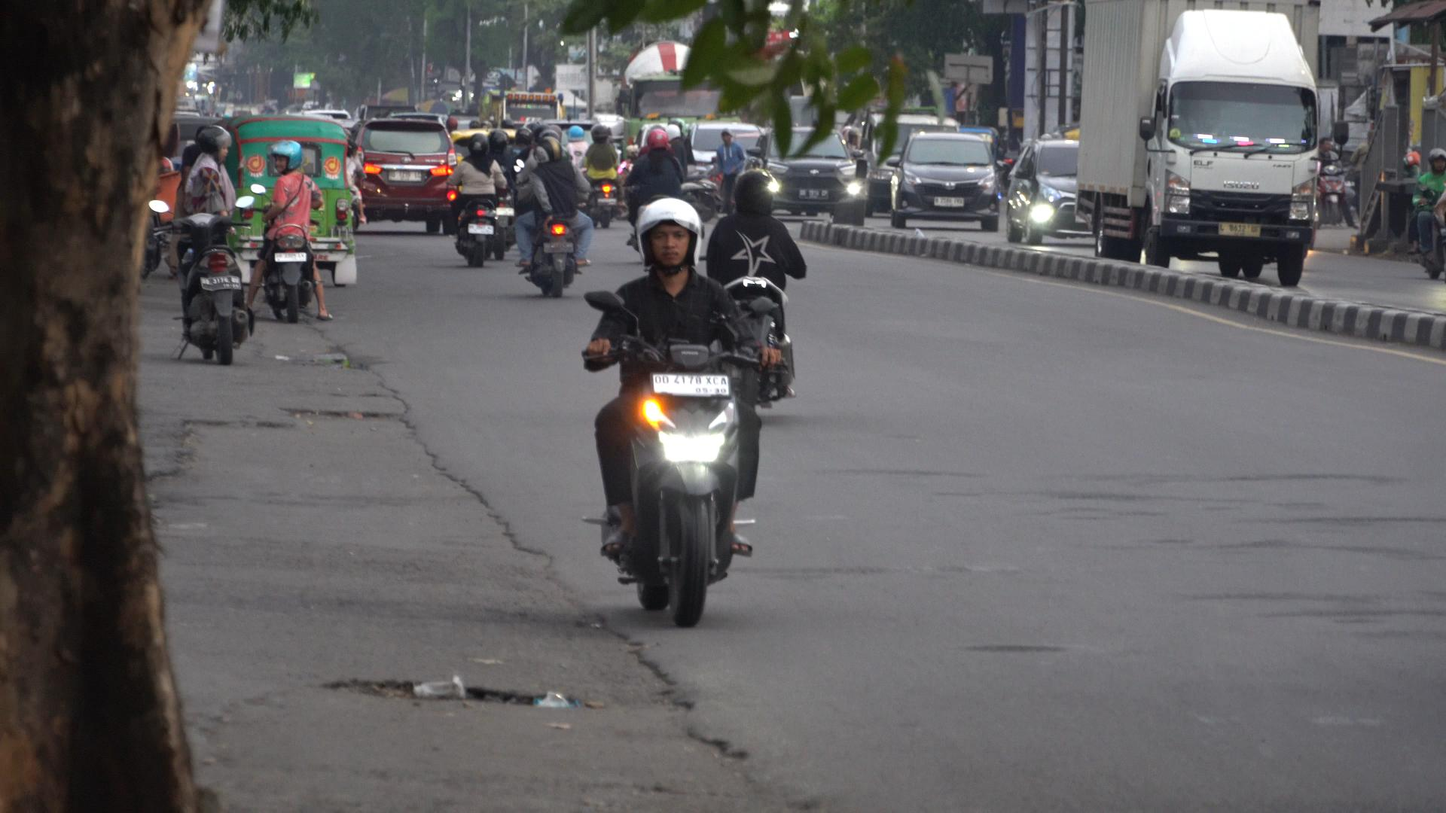number-plate: (650, 369, 735, 401)
